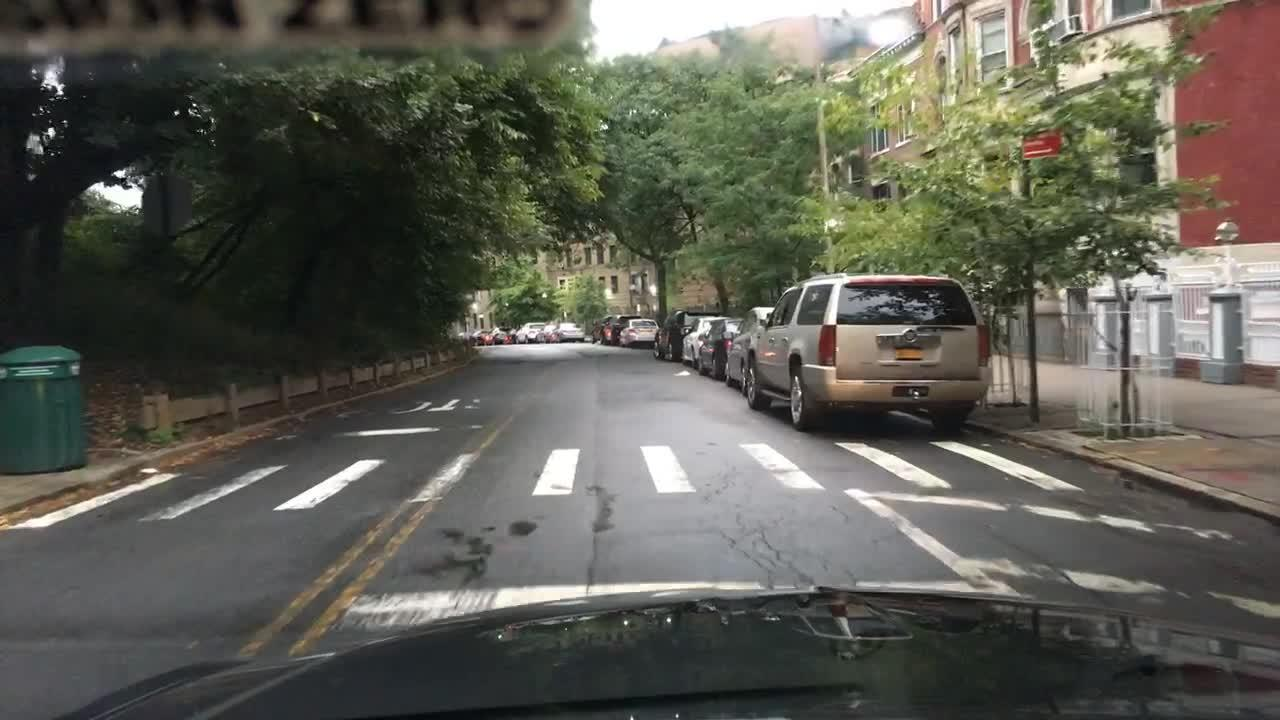cadillac: (904, 326, 919, 343)
